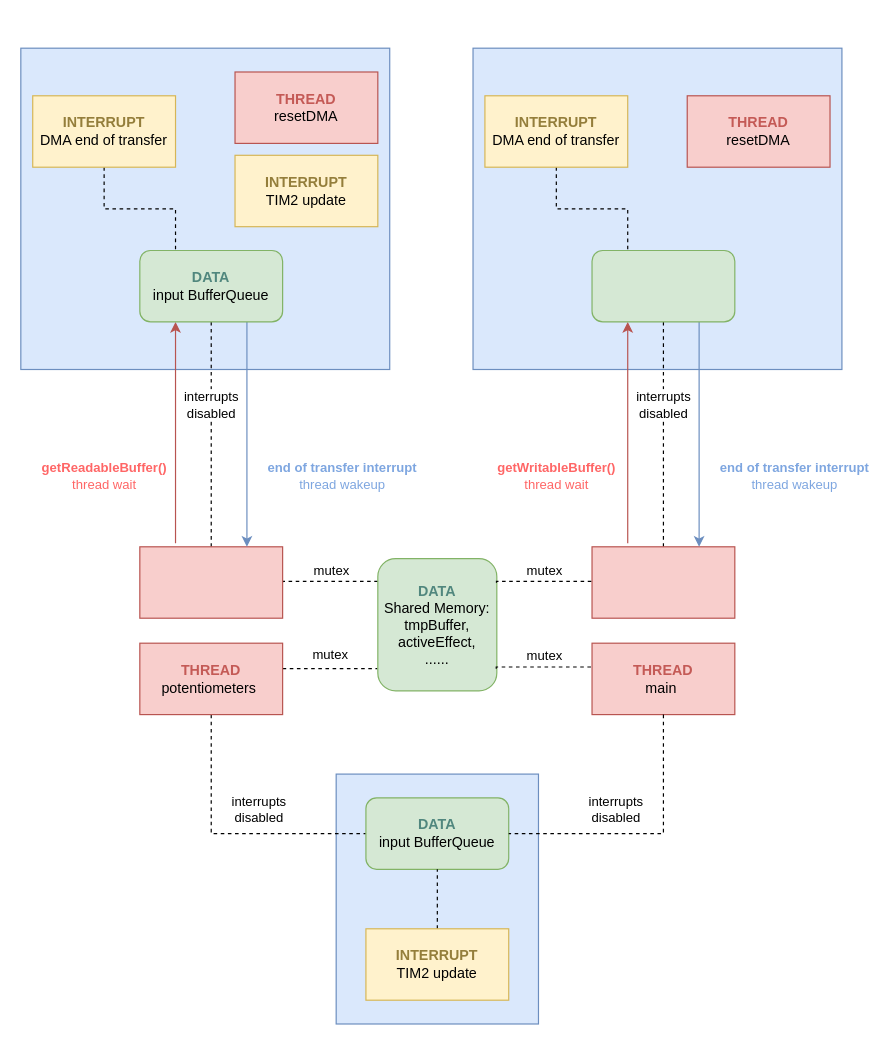
The diagram is 889 pixels wide and 1045 high, and some of its shapes have lost their labels. The box of each missing label's shape, as (x1, y1, x2, y2) in pixels:
ADC_Driver: (20, 47, 390, 369)
DAC_Driver: (472, 47, 842, 369)
DATA output BufferQueue: (591, 249, 735, 322)
LedMatrix_Driver: (335, 773, 538, 1024)
THREAD readADC: (139, 546, 283, 618)
THREAD writeDAC: (591, 546, 735, 618)
